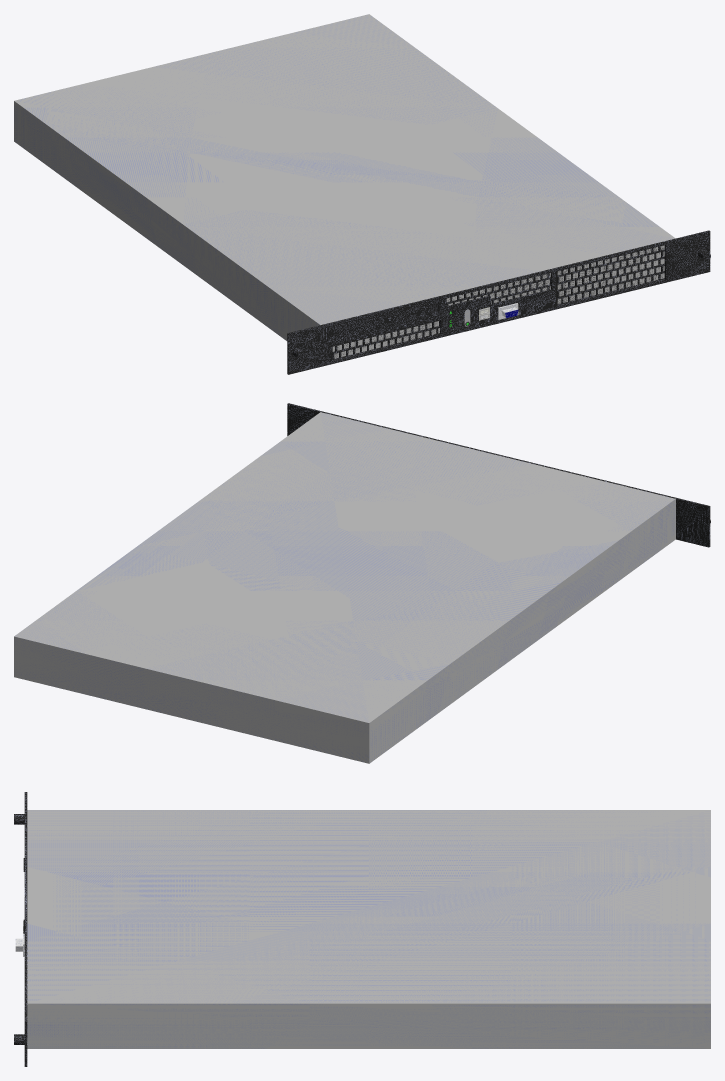
3 views of the same model, one above another, from view 1: azimuth 30°, elevation 25°; view 2: azimuth 150°, elevation 25°; view 3: azimuth 270°, elevation 25° (orthographic). The views are drawn at different scales.
Visible parts, largest first — view 1: group_0 (×3), group_1 (×2); view 2: group_0 (×2); view 3: group_0 (×2).
Boxes of the visible parts, x1,y1,x2,y2 form: group_0 (×3): (14,14,710,374); group_1 (×2): (332,245,664,359); group_0 (×2): (14,403,710,763); group_0 (×2): (24,792,710,1066).
Size of the model in its own units: 19 by 24.38 by 1.75.
